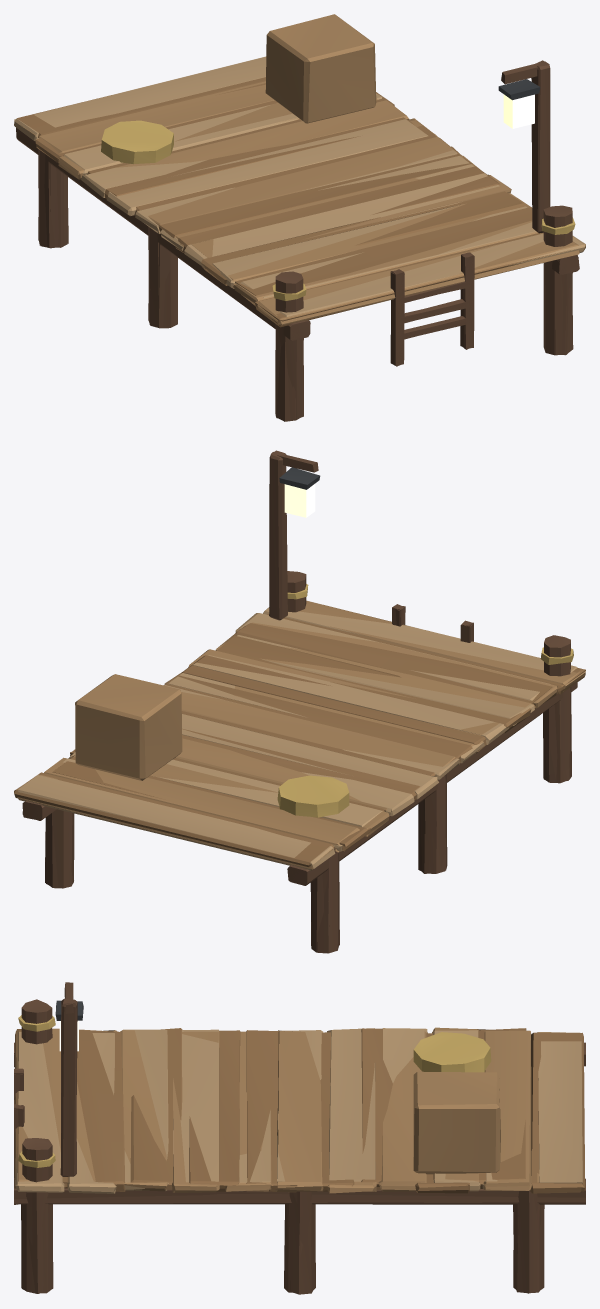
Rendered from dock.fishing.glb.
The picture shows the model from 3 angles, top to bottom: view 1: azimuth 30°, elevation 25°; view 2: azimuth 150°, elevation 25°; view 3: azimuth 270°, elevation 25°; orthographic projection. The views are drawn at different scales.
Parts seen in each view (by area): view 1: dock.fishing.v2.mesh, dock.fishing.v0.mesh, dock.fishing.v1.mesh; view 2: dock.fishing.v2.mesh, dock.fishing.v1.mesh, dock.fishing.v0.mesh; view 3: dock.fishing.v2.mesh, dock.fishing.v1.mesh, dock.fishing.v0.mesh.
Boxes of the visible parts, <box> form: dock.fishing.v2.mesh: <box>14,14,585,420</box>; dock.fishing.v0.mesh: <box>14,81,579,419</box>; dock.fishing.v1.mesh: <box>16,60,579,421</box>; dock.fishing.v2.mesh: <box>18,607,577,952</box>; dock.fishing.v1.mesh: <box>14,450,585,953</box>; dock.fishing.v0.mesh: <box>17,571,585,953</box>; dock.fishing.v2.mesh: <box>14,1028,585,1294</box>; dock.fishing.v1.mesh: <box>14,982,585,1293</box>; dock.fishing.v0.mesh: <box>14,999,585,1293</box>.
Bounding box in the file's own units: 1.97 × 1.66 × 3.
